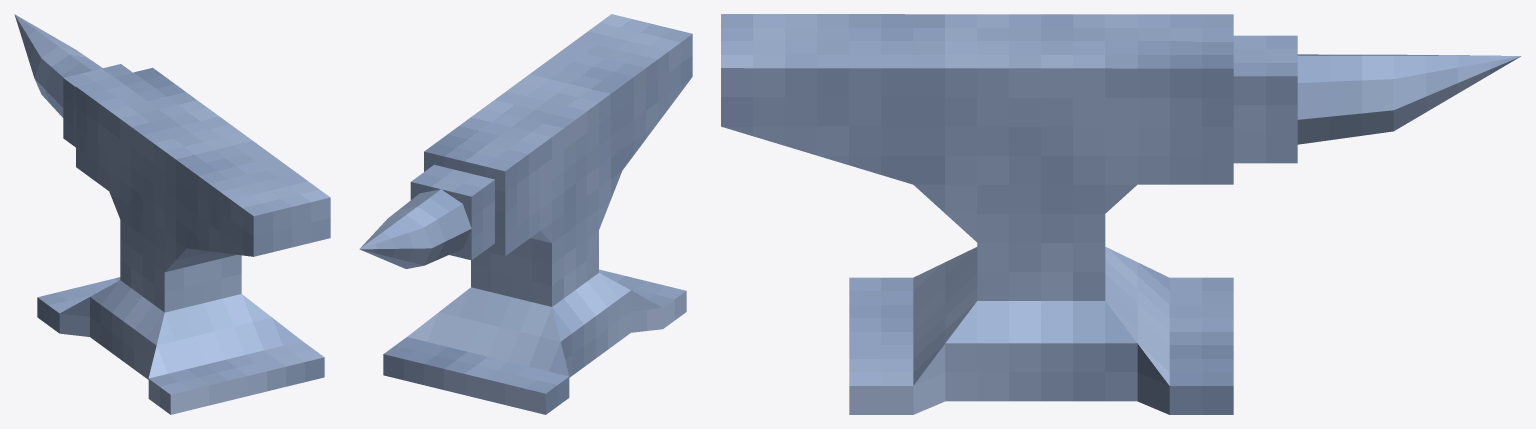
Rendered from osmiridium_anvil.obj.
The picture shows the model from 3 angles, left to right: view 1: azimuth 30°, elevation 25°; view 2: azimuth 150°, elevation 25°; view 3: azimuth 270°, elevation 25°; orthographic projection. The views are drawn at different scales.
Visible parts, largest first — view 1: Left, Top, Back; view 2: Left, Top, Front; view 3: Right, Top, Front, Back.
Boxes of the visible parts, box(x1,y1,x2,y2) form: Left: box(15, 15, 253, 414); Top: box(14, 14, 330, 394); Back: box(148, 197, 330, 414); Left: box(360, 34, 692, 414); Top: box(360, 14, 692, 393); Front: box(383, 151, 569, 414); Right: box(721, 56, 1520, 414); Top: box(721, 14, 1520, 385); Front: box(1105, 247, 1169, 385); Back: box(913, 247, 977, 385).
Size of the model in its own units: 0.5 by 0.6885 by 1.56.
